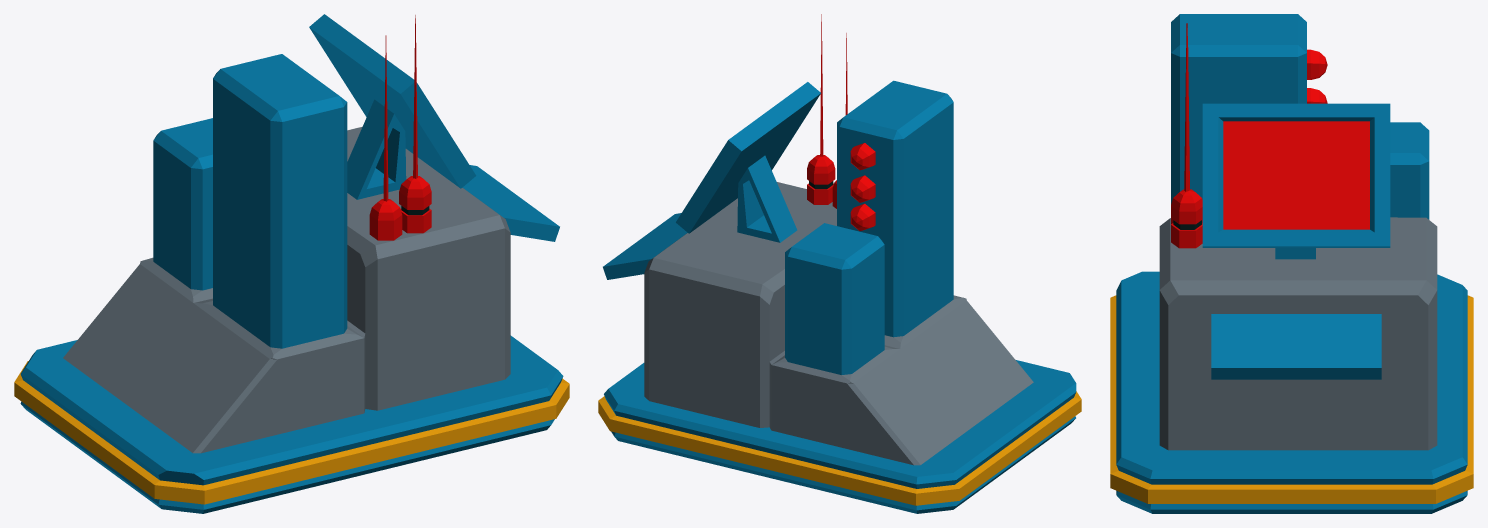
File: IT_pod.fbx
3 views of the same model, side by side, from view 1: azimuth 30°, elevation 25°; view 2: azimuth 150°, elevation 25°; view 3: azimuth 270°, elevation 25° (orthographic). The views are drawn at different scales.
Visible parts, largest first — view 1: IT_pod; view 2: IT_pod; view 3: IT_pod.
Part boxes in pixels (x1,y1,x2,y2): IT_pod: (14, 14, 569, 513); IT_pod: (598, 14, 1081, 513); IT_pod: (1110, 14, 1473, 513).
Size of the model in its own units: 6.5 by 5.93 by 4.57.
